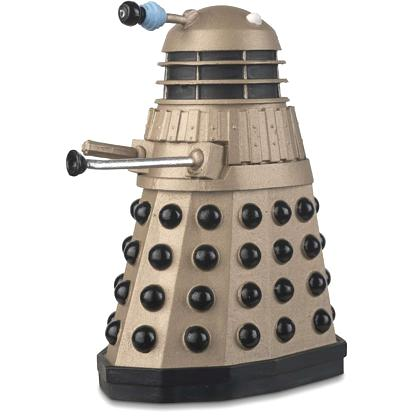dalek: (52, 0, 362, 408)
